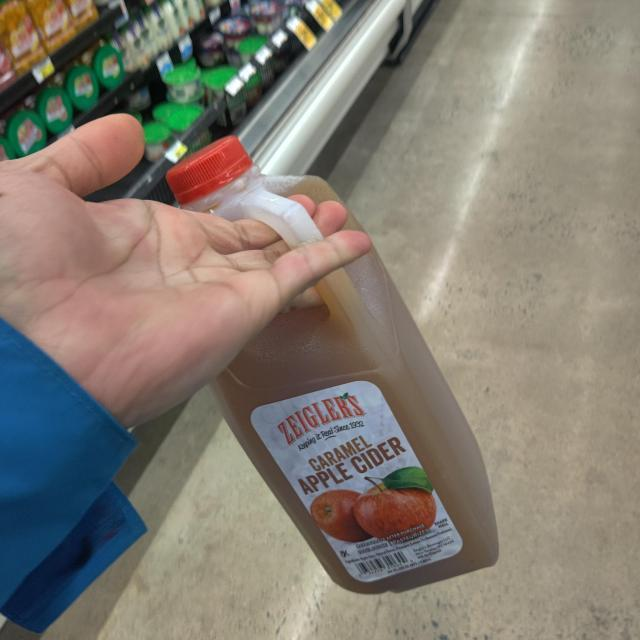Juice: (171, 137, 504, 596)
